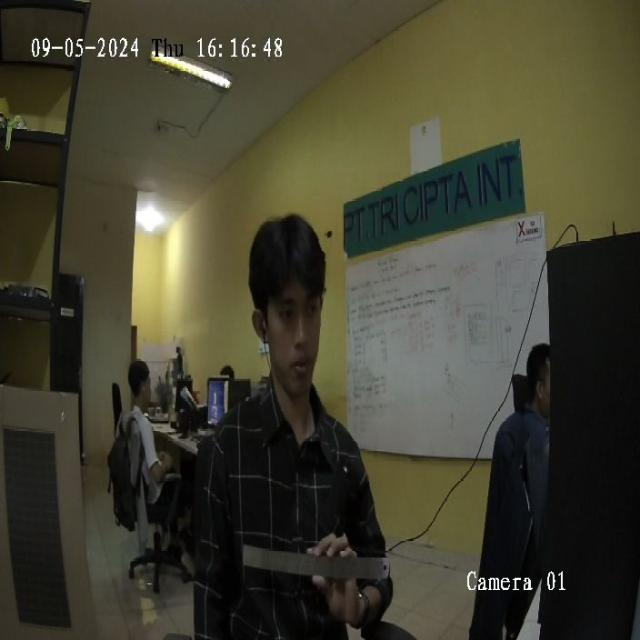Ruler: (245, 544, 388, 580)
